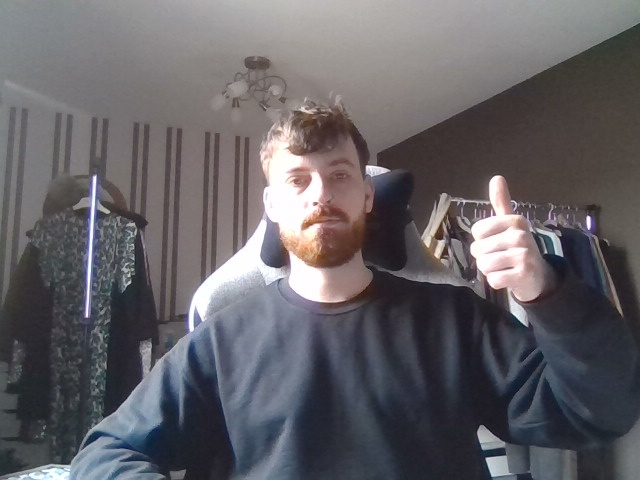Thumbs Up: (454, 155, 555, 321)
